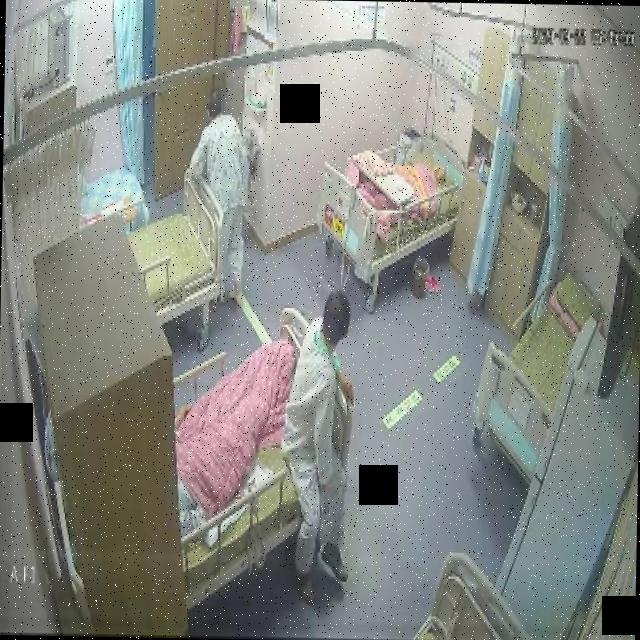bed: (170, 307, 356, 575), (314, 130, 460, 306), (469, 280, 592, 486), (125, 165, 227, 326)
patient: (276, 290, 358, 588), (181, 78, 252, 312)
sit: (278, 288, 356, 588)
stand: (182, 80, 253, 300)
